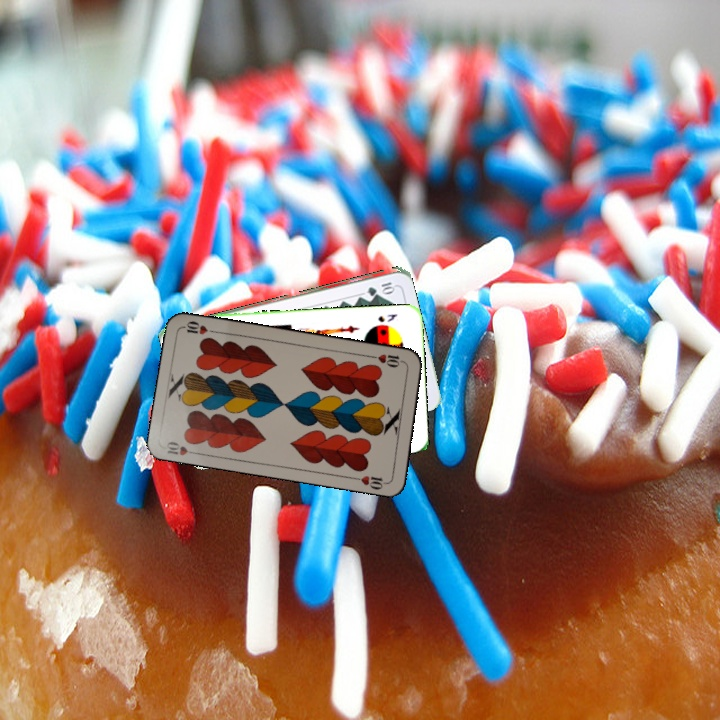G10: (363, 278, 397, 297)
H10: (162, 437, 202, 458), (367, 350, 408, 370)
SK: (374, 310, 399, 325)
